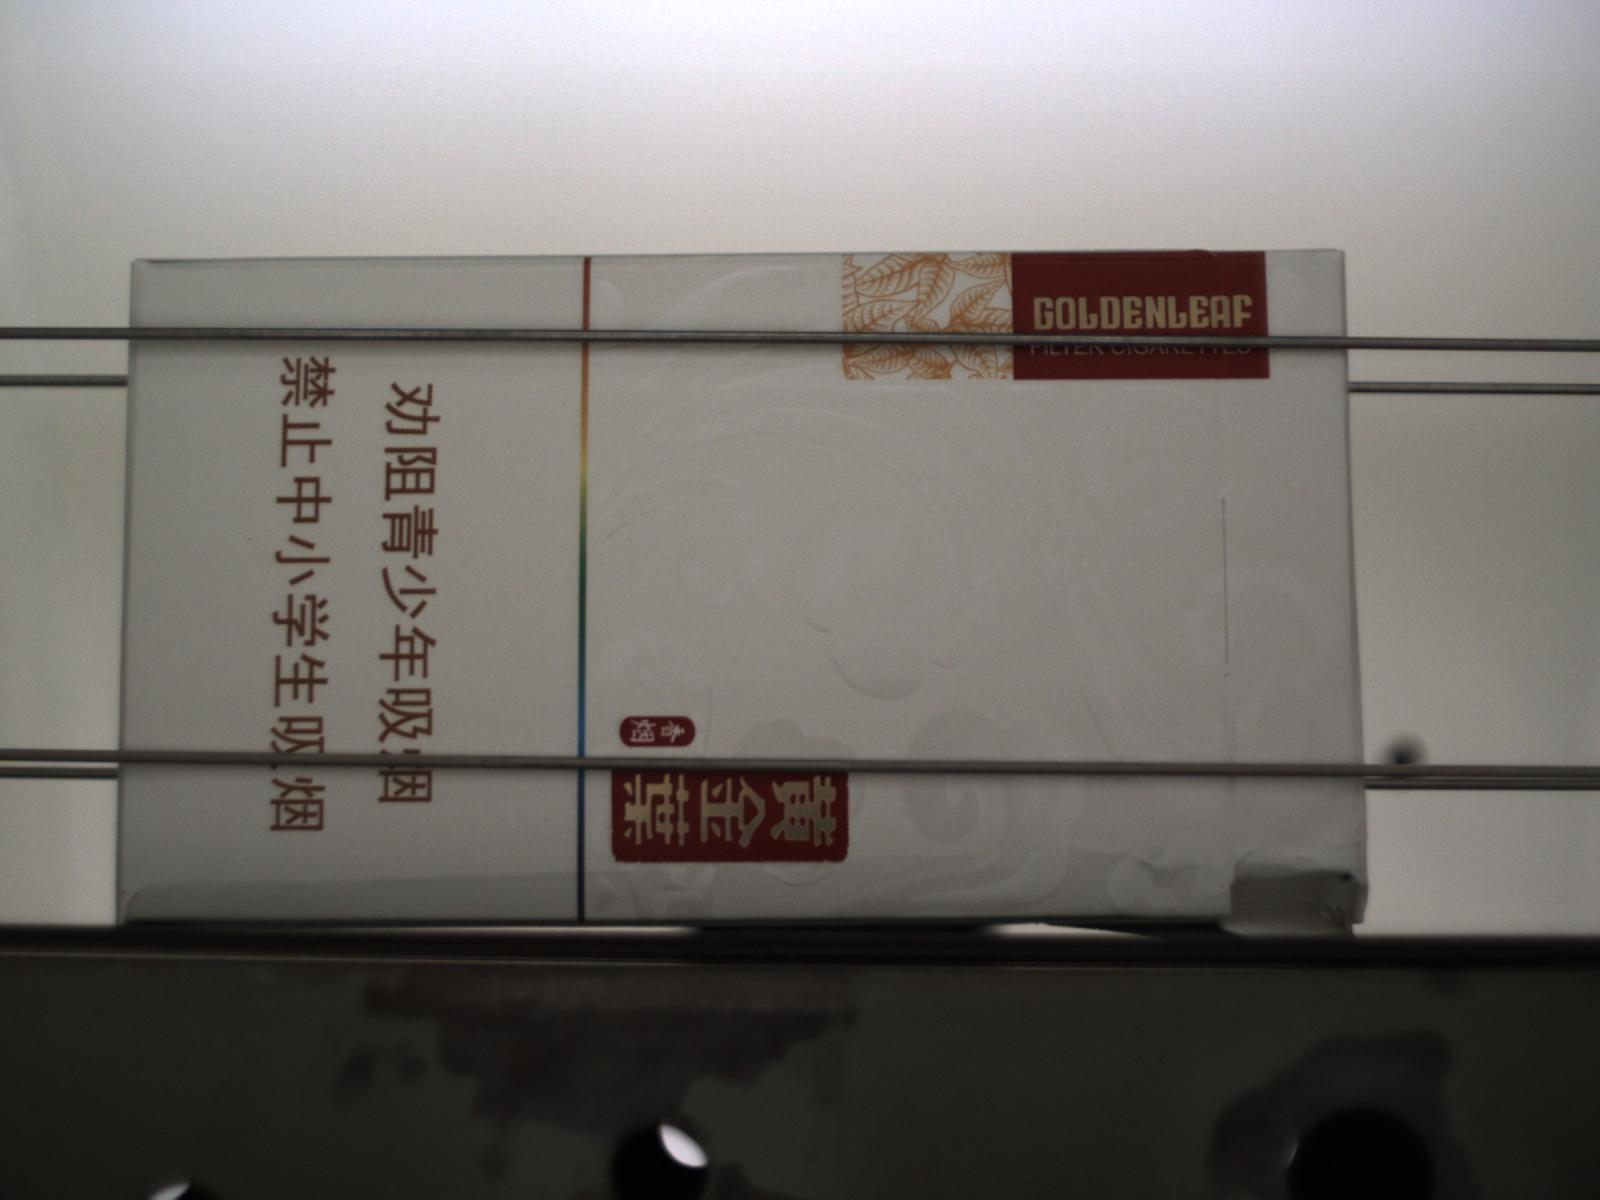boxDamage_slight: (112, 853, 1373, 942)
crease_corner_heavy: (112, 884, 152, 932)
